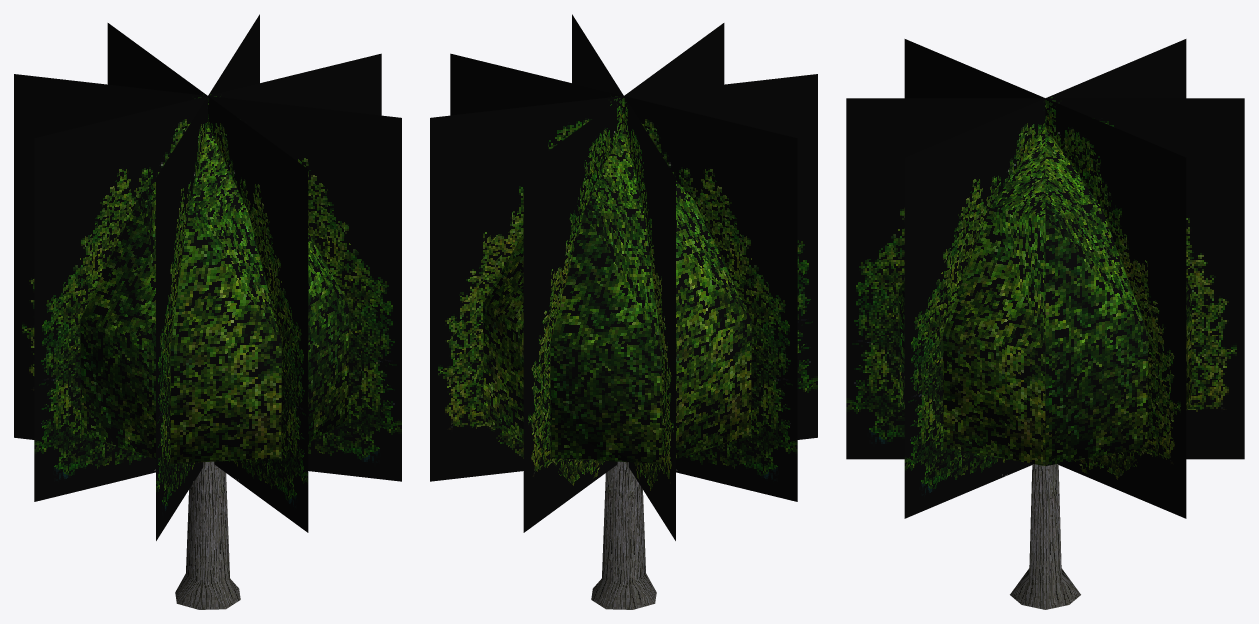
File: tree_01.glb
3 renders of one model, left to right at view 1: azimuth 30°, elevation 25°; view 2: azimuth 150°, elevation 25°; view 3: azimuth 270°, elevation 25°, orthographic.
Parts seen in each view (by area): view 1: plane_leaves, full_leaves, bark; view 2: plane_leaves, full_leaves, bark; view 3: plane_leaves, full_leaves, bark.
Part boxes in pixels (bbox=[...]): plane_leaves: bbox=[14, 14, 401, 540]; full_leaves: bbox=[80, 125, 348, 463]; bark: bbox=[175, 461, 240, 609]; plane_leaves: bbox=[430, 14, 817, 540]; full_leaves: bbox=[483, 125, 751, 463]; bark: bbox=[591, 461, 656, 609]; plane_leaves: bbox=[846, 39, 1244, 518]; full_leaves: bbox=[899, 127, 1191, 465]; bark: bbox=[1010, 464, 1080, 609].
Size of the model in its own units: 8 by 11 by 8.
Materials: 1 (1 with a texture image).
